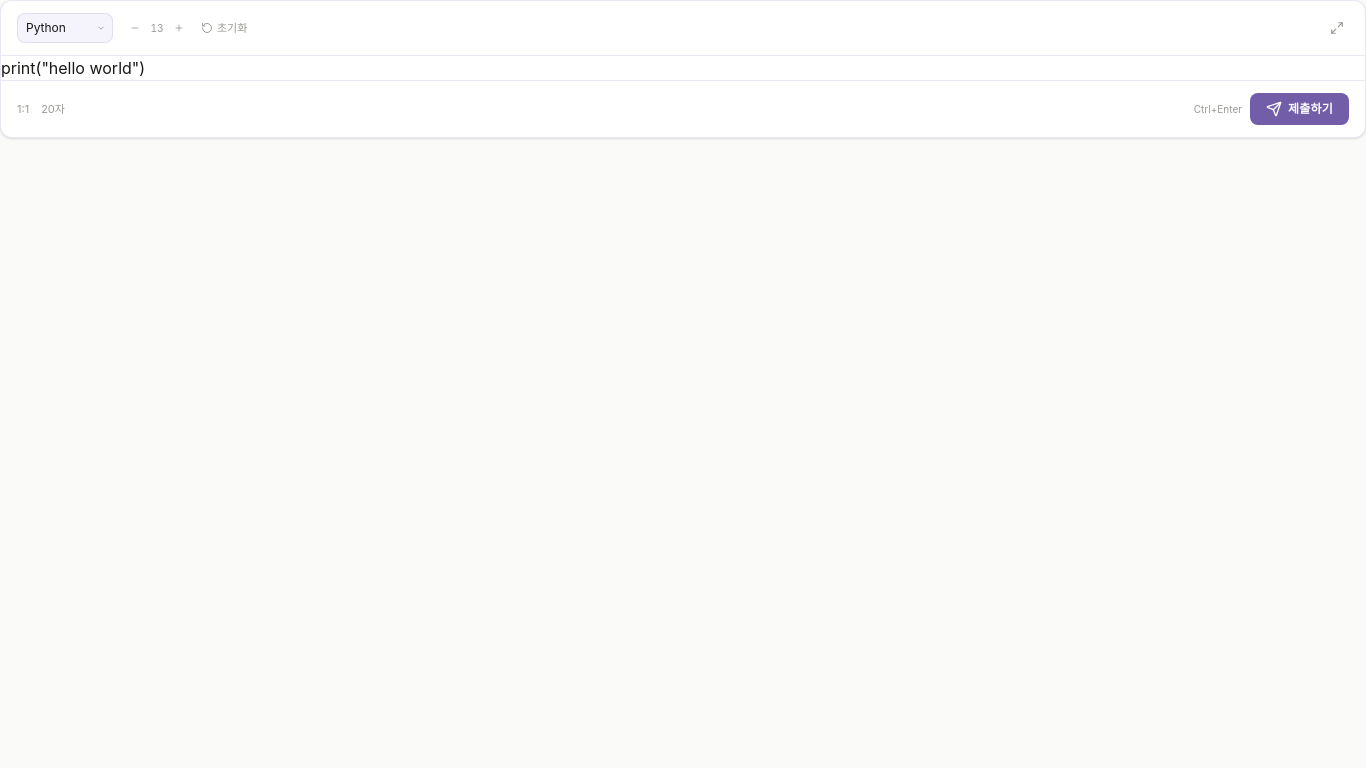
Test: CodeEditor › shows confirm popup when changing language with existing code
Select "Java" in the dropdown named "프로그래밍 언어". click: (65, 28)
box: [17,13,113,43]
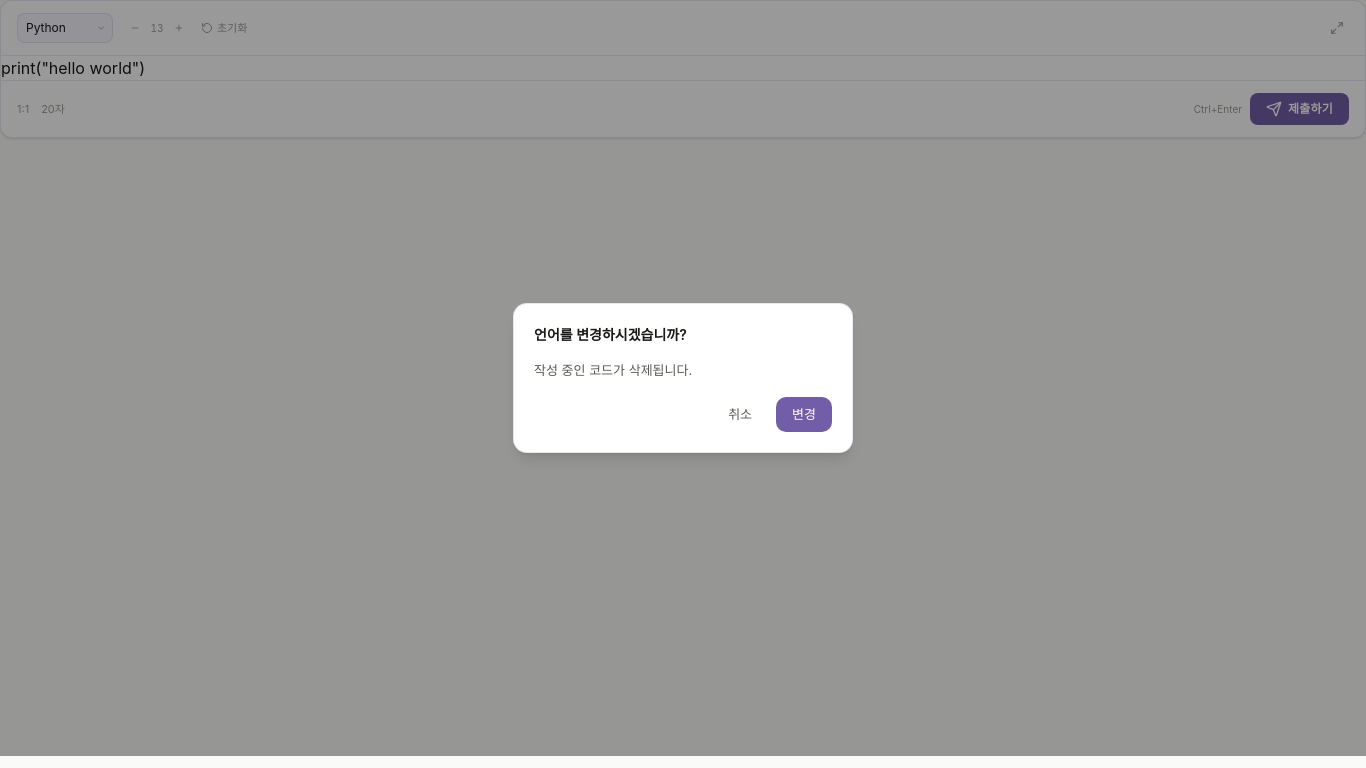
Check: the text "언어를 변경하시겠습니까?" is shown, box [534,326,687,343]
